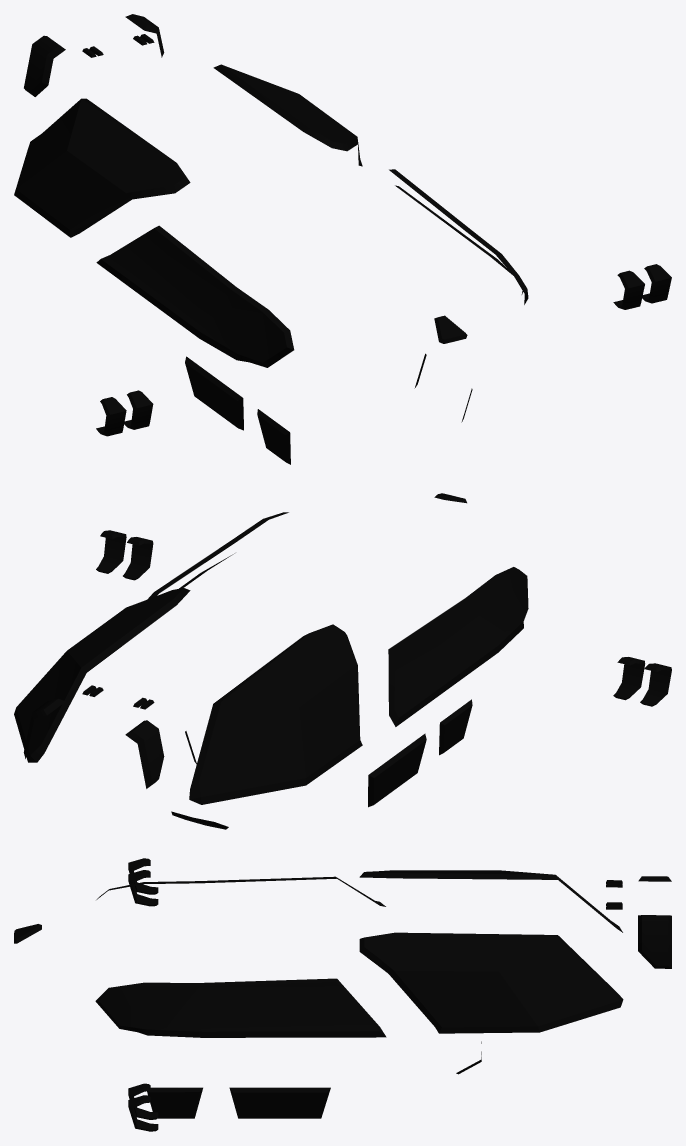
File: kpr_cd_keep_01_t1.glb
The picture shows the model from 3 angles, top to bottom: view 1: azimuth 30°, elevation 25°; view 2: azimuth 150°, elevation 25°; view 3: azimuth 270°, elevation 25°; orthographic projection. The views are drawn at different scales.
Parts seen in each view (by area): view 1: kpr_keeper_01_LOD0; view 2: kpr_keeper_01_LOD0; view 3: kpr_keeper_01_LOD0.
Part boxes in pixels (bbox=[...]): kpr_keeper_01_LOD0: bbox=[14, 14, 671, 464]; kpr_keeper_01_LOD0: bbox=[14, 493, 671, 829]; kpr_keeper_01_LOD0: bbox=[14, 858, 671, 1131].
Size of what is drawn, in the model's own units: 3.42 by 1.22 by 3.86.
Materials: 1 (1 with a texture image).
